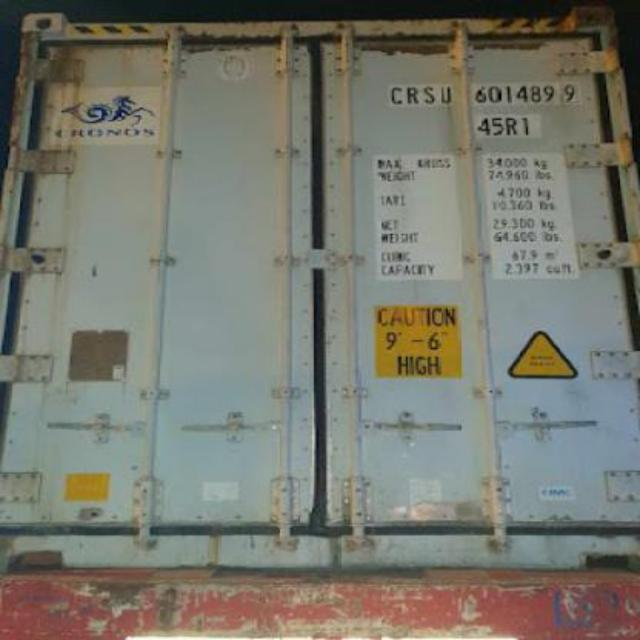0: (488, 84, 502, 104)
1: (504, 84, 514, 104)
4: (514, 82, 530, 102)
6: (474, 84, 486, 104)
8: (530, 83, 542, 103)
9: (544, 84, 556, 104), (564, 86, 576, 104)
C: (391, 85, 404, 105)
R: (406, 84, 422, 106)
S: (422, 85, 438, 106)
U: (438, 84, 452, 106)
